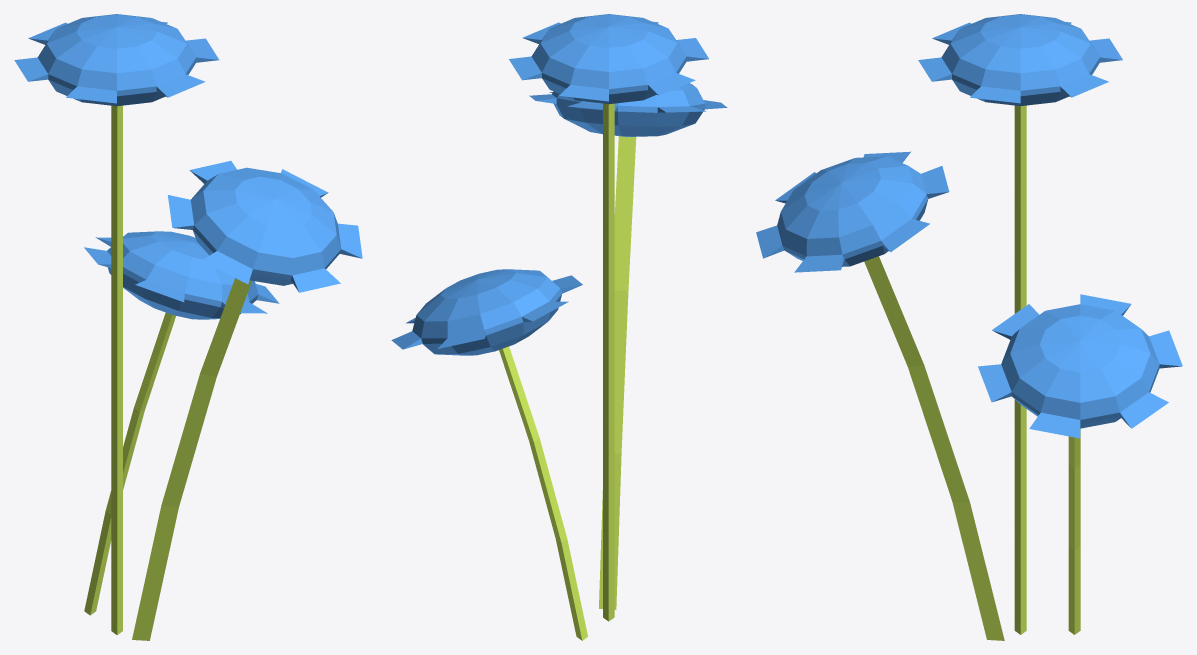
File: flower_blue.fbx
3 views of the same model, side by side, from view 1: azimuth 30°, elevation 25°; view 2: azimuth 150°, elevation 25°; view 3: azimuth 270°, elevation 25° (orthographic). The views are drawn at different scales.
Visible parts, largest first — view 1: flower_blue; view 2: flower_blue; view 3: flower_blue.
Boxes of the visible parts, <box> form: flower_blue: <box>14,14,362,640</box>; flower_blue: <box>391,14,727,640</box>; flower_blue: <box>756,14,1182,640</box>.
Size of the model in its own units: 0.0996 by 0.2155 by 0.1379.
